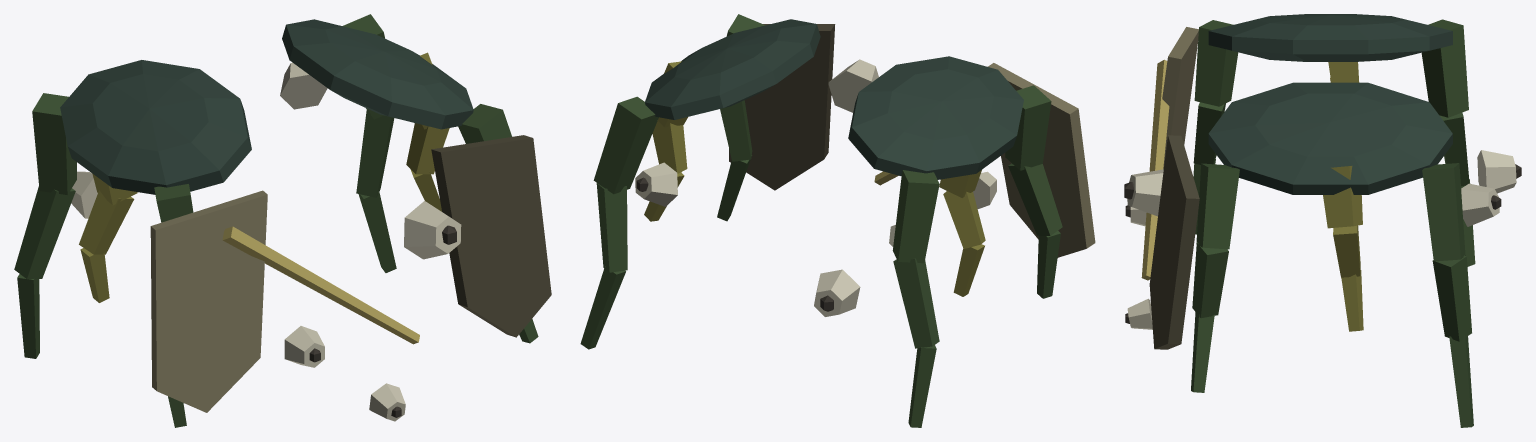
The model's file is sunken_chest.glb.
3 views of the same model, side by side, from view 1: azimuth 30°, elevation 25°; view 2: azimuth 150°, elevation 25°; view 3: azimuth 270°, elevation 25° (orthographic). The views are drawn at different scales.
Visible parts, largest first — view 1: sunken_chest; view 2: sunken_chest; view 3: sunken_chest.
Part boxes in pixels (x1,y1,x2,y2): sunken_chest: (14, 14, 551, 427); sunken_chest: (580, 14, 1095, 427); sunken_chest: (1124, 14, 1521, 427).
Bounding box in the file's own units: 0.9341 × 0.6747 × 0.8655.
